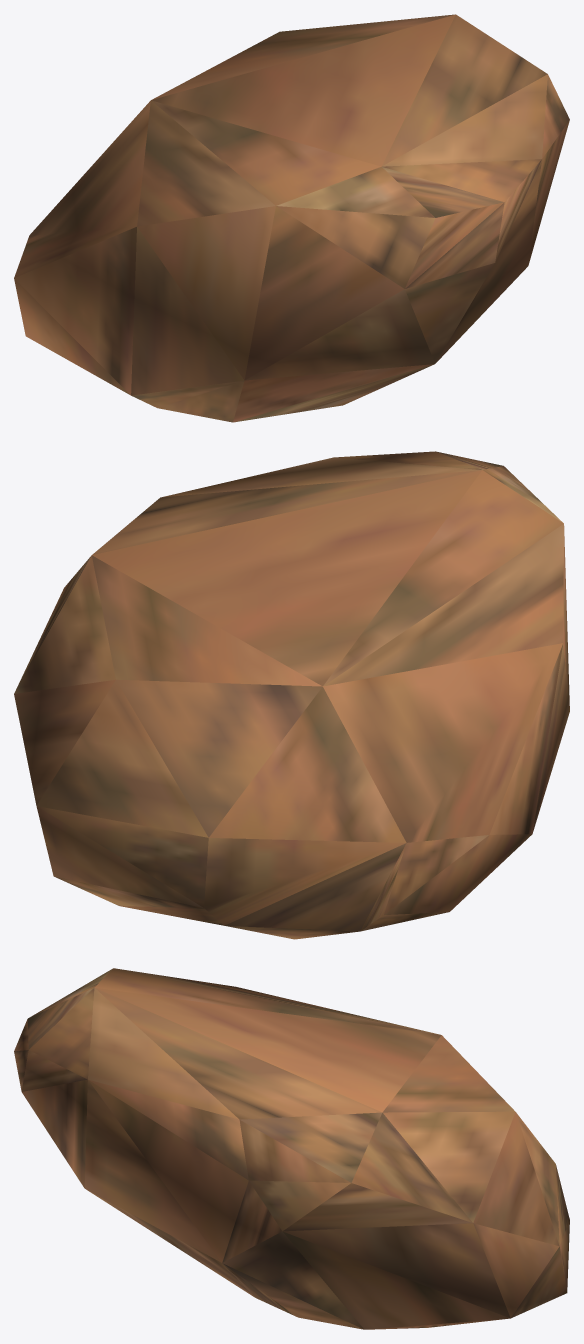
File: Rock_V3.glb
3 renders of one model, top to bottom at view 1: azimuth 30°, elevation 25°; view 2: azimuth 150°, elevation 25°; view 3: azimuth 270°, elevation 25°, orthographic. The views are drawn at different scales.
Visible parts, largest first — view 1: ROCK_V3; view 2: ROCK_V3; view 3: ROCK_V3.
Part boxes in pixels (x1=…): ROCK_V3: x1=14, y1=14, x2=569, y2=422; ROCK_V3: x1=14, y1=451, x2=569, y2=939; ROCK_V3: x1=14, y1=968, x2=569, y2=1329.
Bounding box in the file's own units: 0.881 × 0.539 × 1.02.
Materials: 1 (1 with a texture image).
